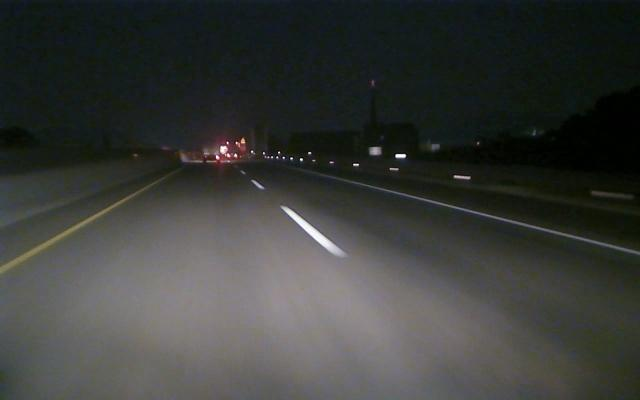lane: (358, 183, 638, 256), (3, 191, 139, 272), (251, 181, 349, 257)
